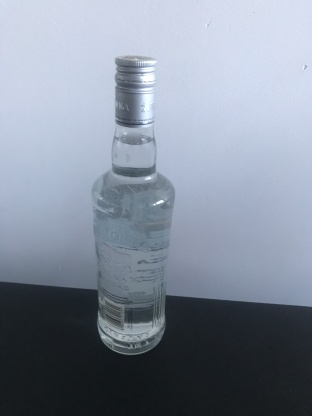nakretka: (113, 51, 157, 129)
